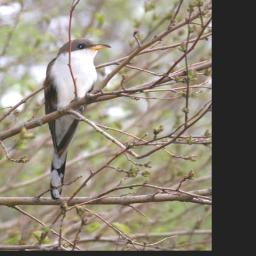Cuckoo: (42, 37, 112, 199)
